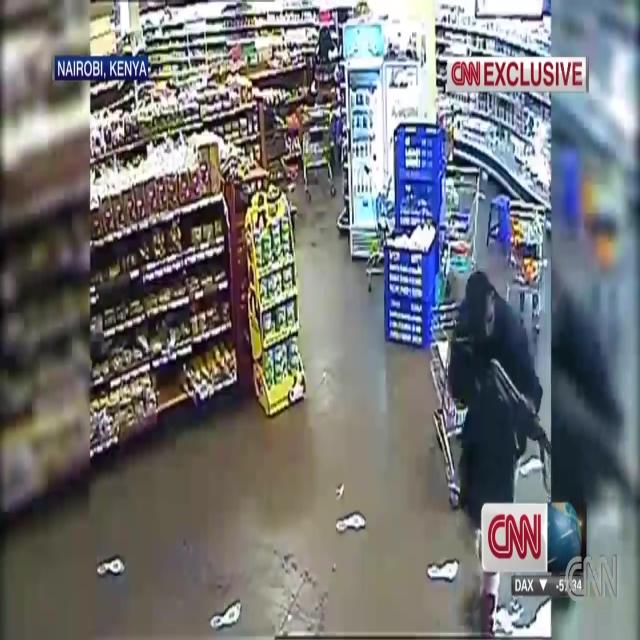Weapon: (476, 315, 574, 488)
